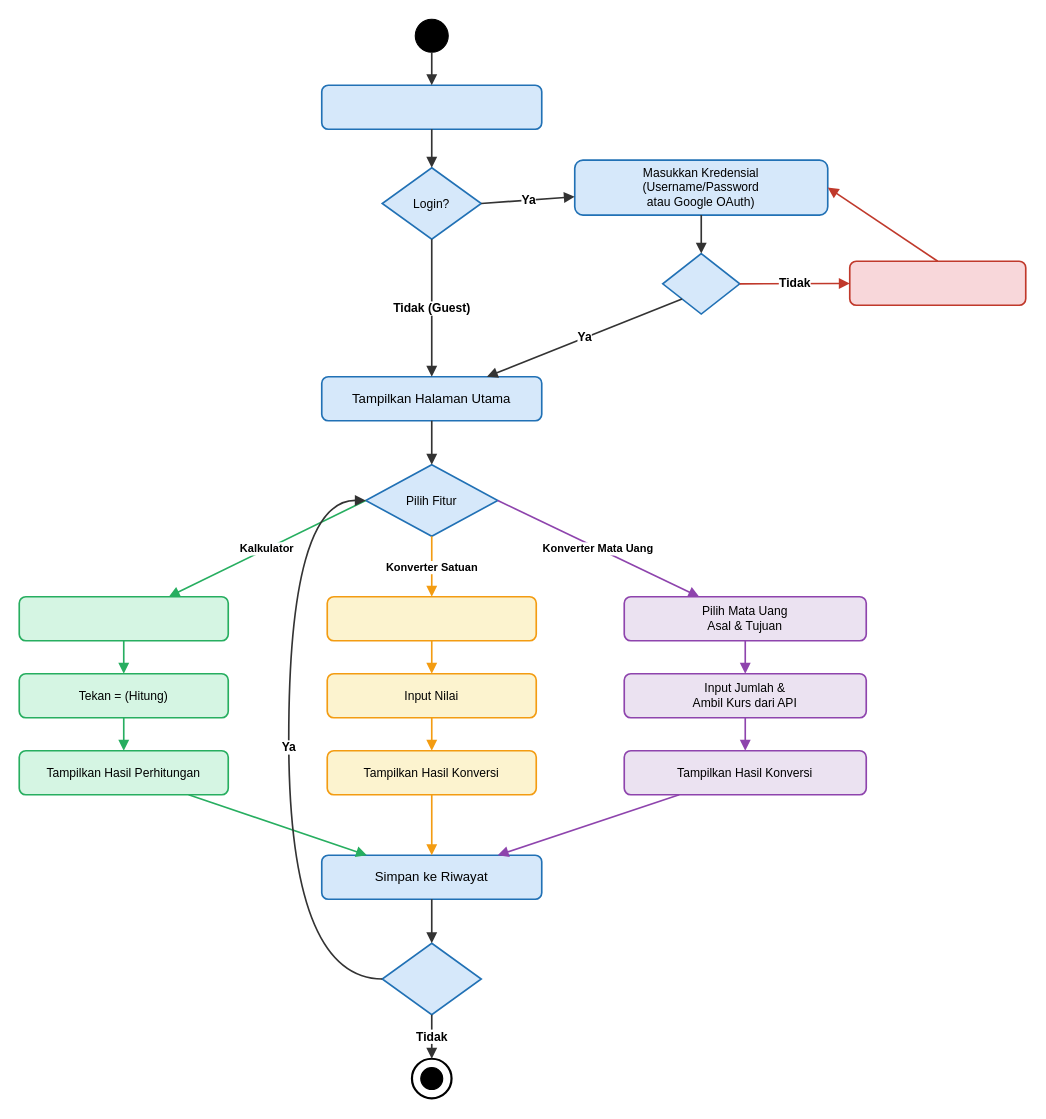
Image size: 1046x1119. Some labels were removed from this diagram. Here are the shapes that lost their labels. From the top down, the centre of each, then its label:
At (x=431, y=107): "Buka Aplikasi E-Concalc".
At (x=700, y=283): "Valid?".
At (x=937, y=283): "Tampilkan Pesan Error".
At (x=123, y=618): "Input Angka / Rumus".
At (x=431, y=618): "Pilih Kategori & Satuan".
At (x=431, y=978): "Gunakan Fitur Lain?".
